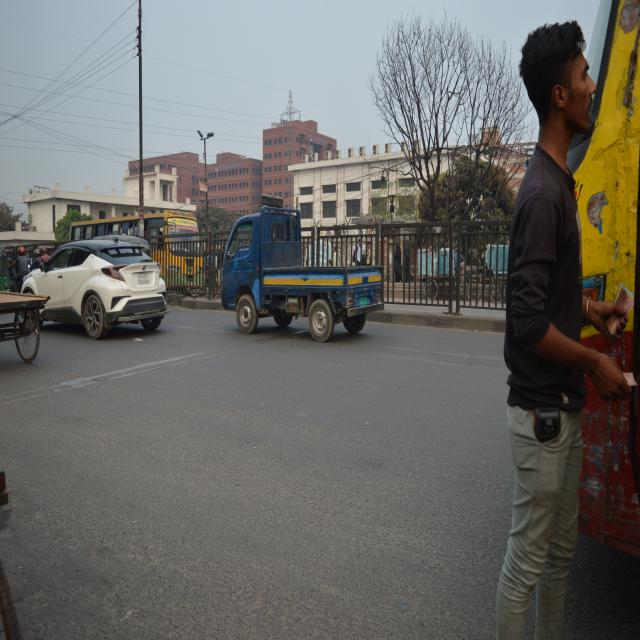bus: (152, 205, 210, 298)
car: (23, 240, 164, 344)
pickup-van: (214, 202, 384, 350)
